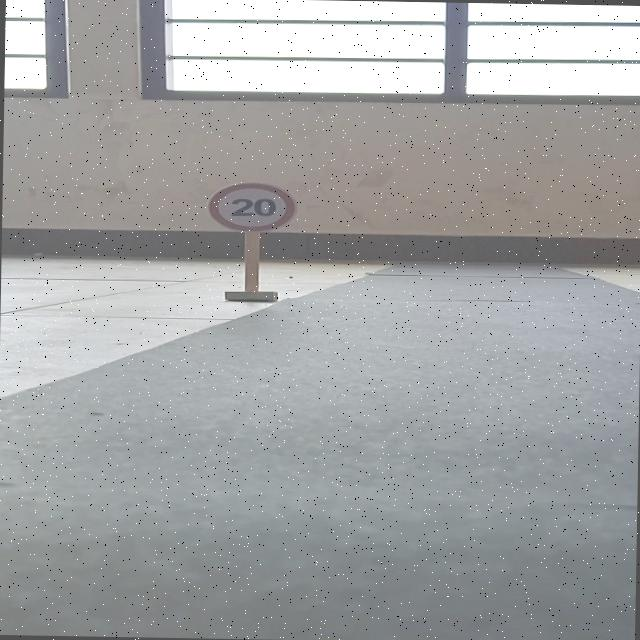Speed20: (199, 178, 302, 234)
